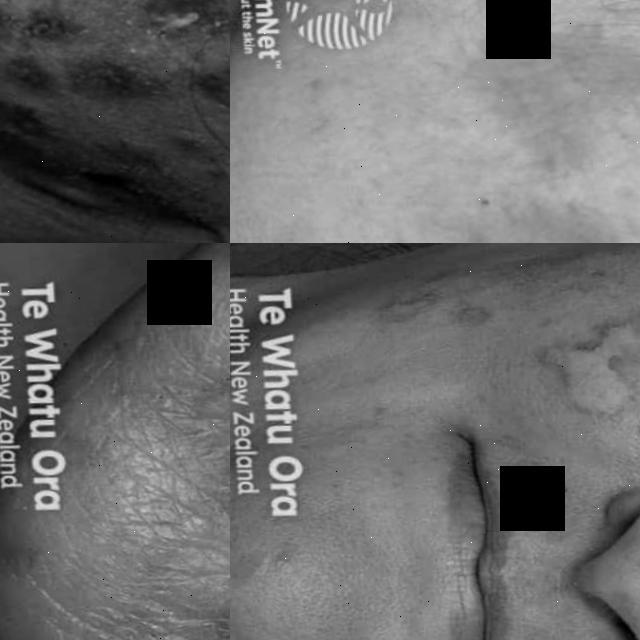lupus-detected: (0, 243, 230, 640), (405, 0, 640, 243), (471, 293, 640, 513), (0, 0, 159, 150), (95, 0, 230, 114), (230, 522, 352, 640), (158, 89, 230, 243), (378, 266, 468, 354)
